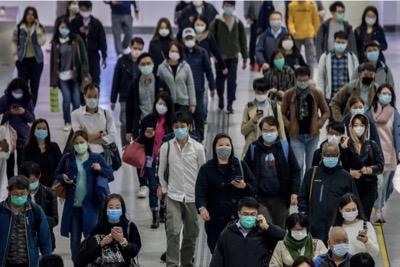with_mask: (330, 238, 348, 257), (239, 210, 257, 229), (104, 203, 121, 222), (321, 152, 339, 169), (340, 206, 358, 222), (8, 191, 28, 205), (289, 226, 307, 241), (215, 142, 230, 160), (72, 139, 87, 155), (172, 124, 186, 141), (84, 93, 98, 110), (260, 128, 276, 142), (139, 60, 153, 76), (360, 72, 375, 86), (378, 90, 392, 105), (153, 101, 167, 116), (33, 125, 47, 140), (24, 176, 37, 192), (327, 131, 340, 146), (352, 122, 364, 138), (366, 48, 379, 62), (281, 37, 293, 51), (350, 105, 364, 117), (9, 89, 24, 100), (334, 40, 347, 52), (296, 77, 309, 89), (254, 90, 266, 103), (129, 46, 142, 58), (270, 16, 280, 31), (272, 56, 284, 68), (183, 37, 195, 49), (168, 49, 180, 61), (222, 3, 233, 15), (158, 25, 169, 37), (57, 27, 70, 37), (365, 13, 375, 25), (78, 8, 90, 18), (69, 2, 78, 14), (335, 10, 345, 20), (193, 23, 204, 32)
without_mask: (24, 11, 34, 24)
